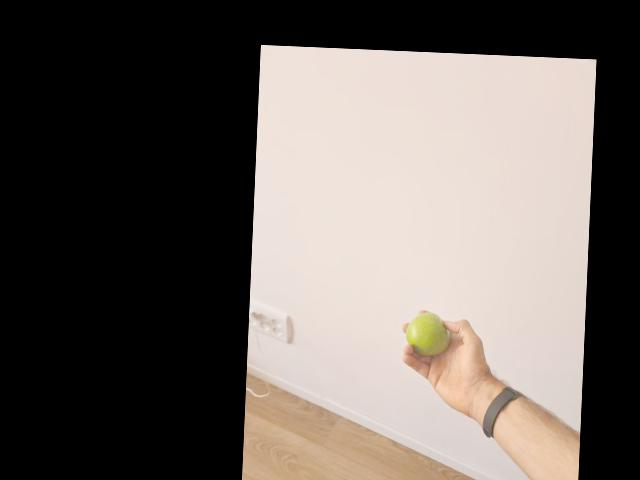apple: (404, 311, 447, 355)
